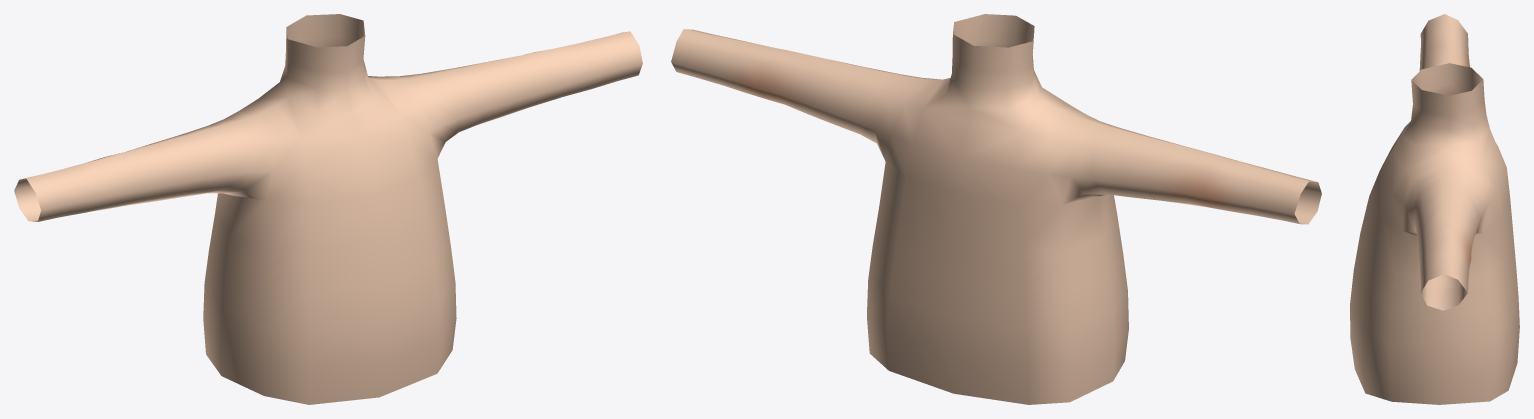
Rendered from Body_White_Top_2.fbx.
3 views of the same model, side by side, from view 1: azimuth 30°, elevation 25°; view 2: azimuth 150°, elevation 25°; view 3: azimuth 270°, elevation 25° (orthographic). The views are drawn at different scales.
Visible parts, largest first — view 1: Body_White_Top_2; view 2: Body_White_Top_2; view 3: Body_White_Top_2.
Boxes of the visible parts, x1,y1,x2,y2 form: Body_White_Top_2: (14,14,642,404); Body_White_Top_2: (671,14,1321,404); Body_White_Top_2: (1350,14,1519,404).
Bounding box in the file's own units: 95.86 × 49.84 × 26.46.
